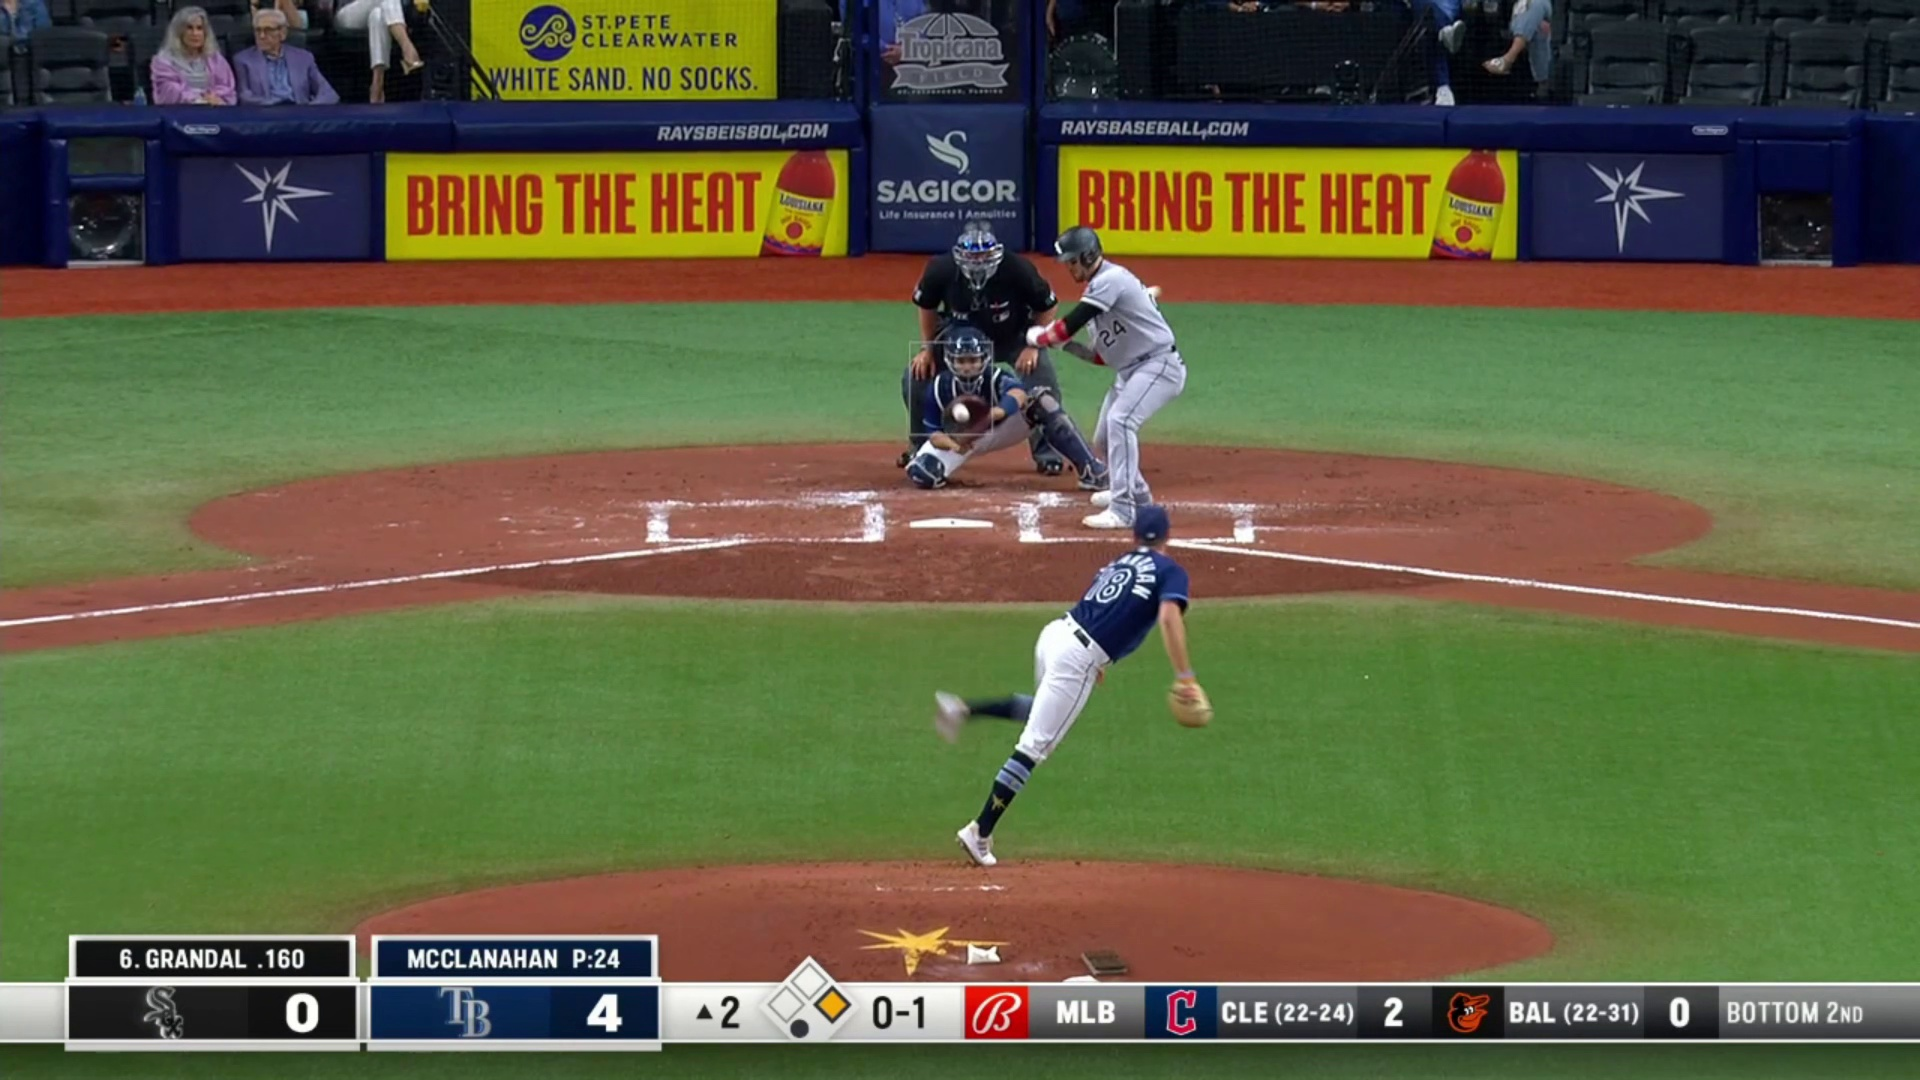baseball: (951, 402, 968, 422)
